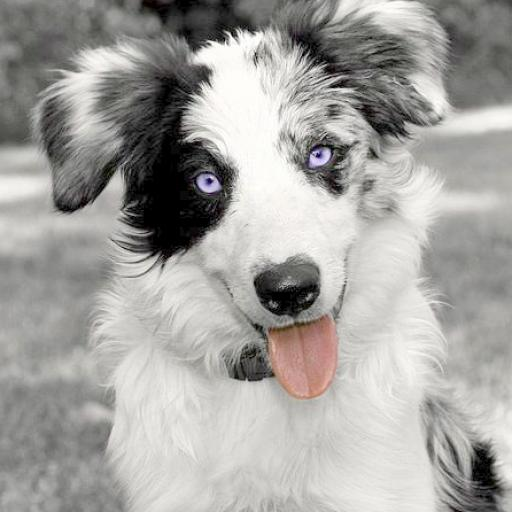dog_face: (38, 0, 460, 383)
